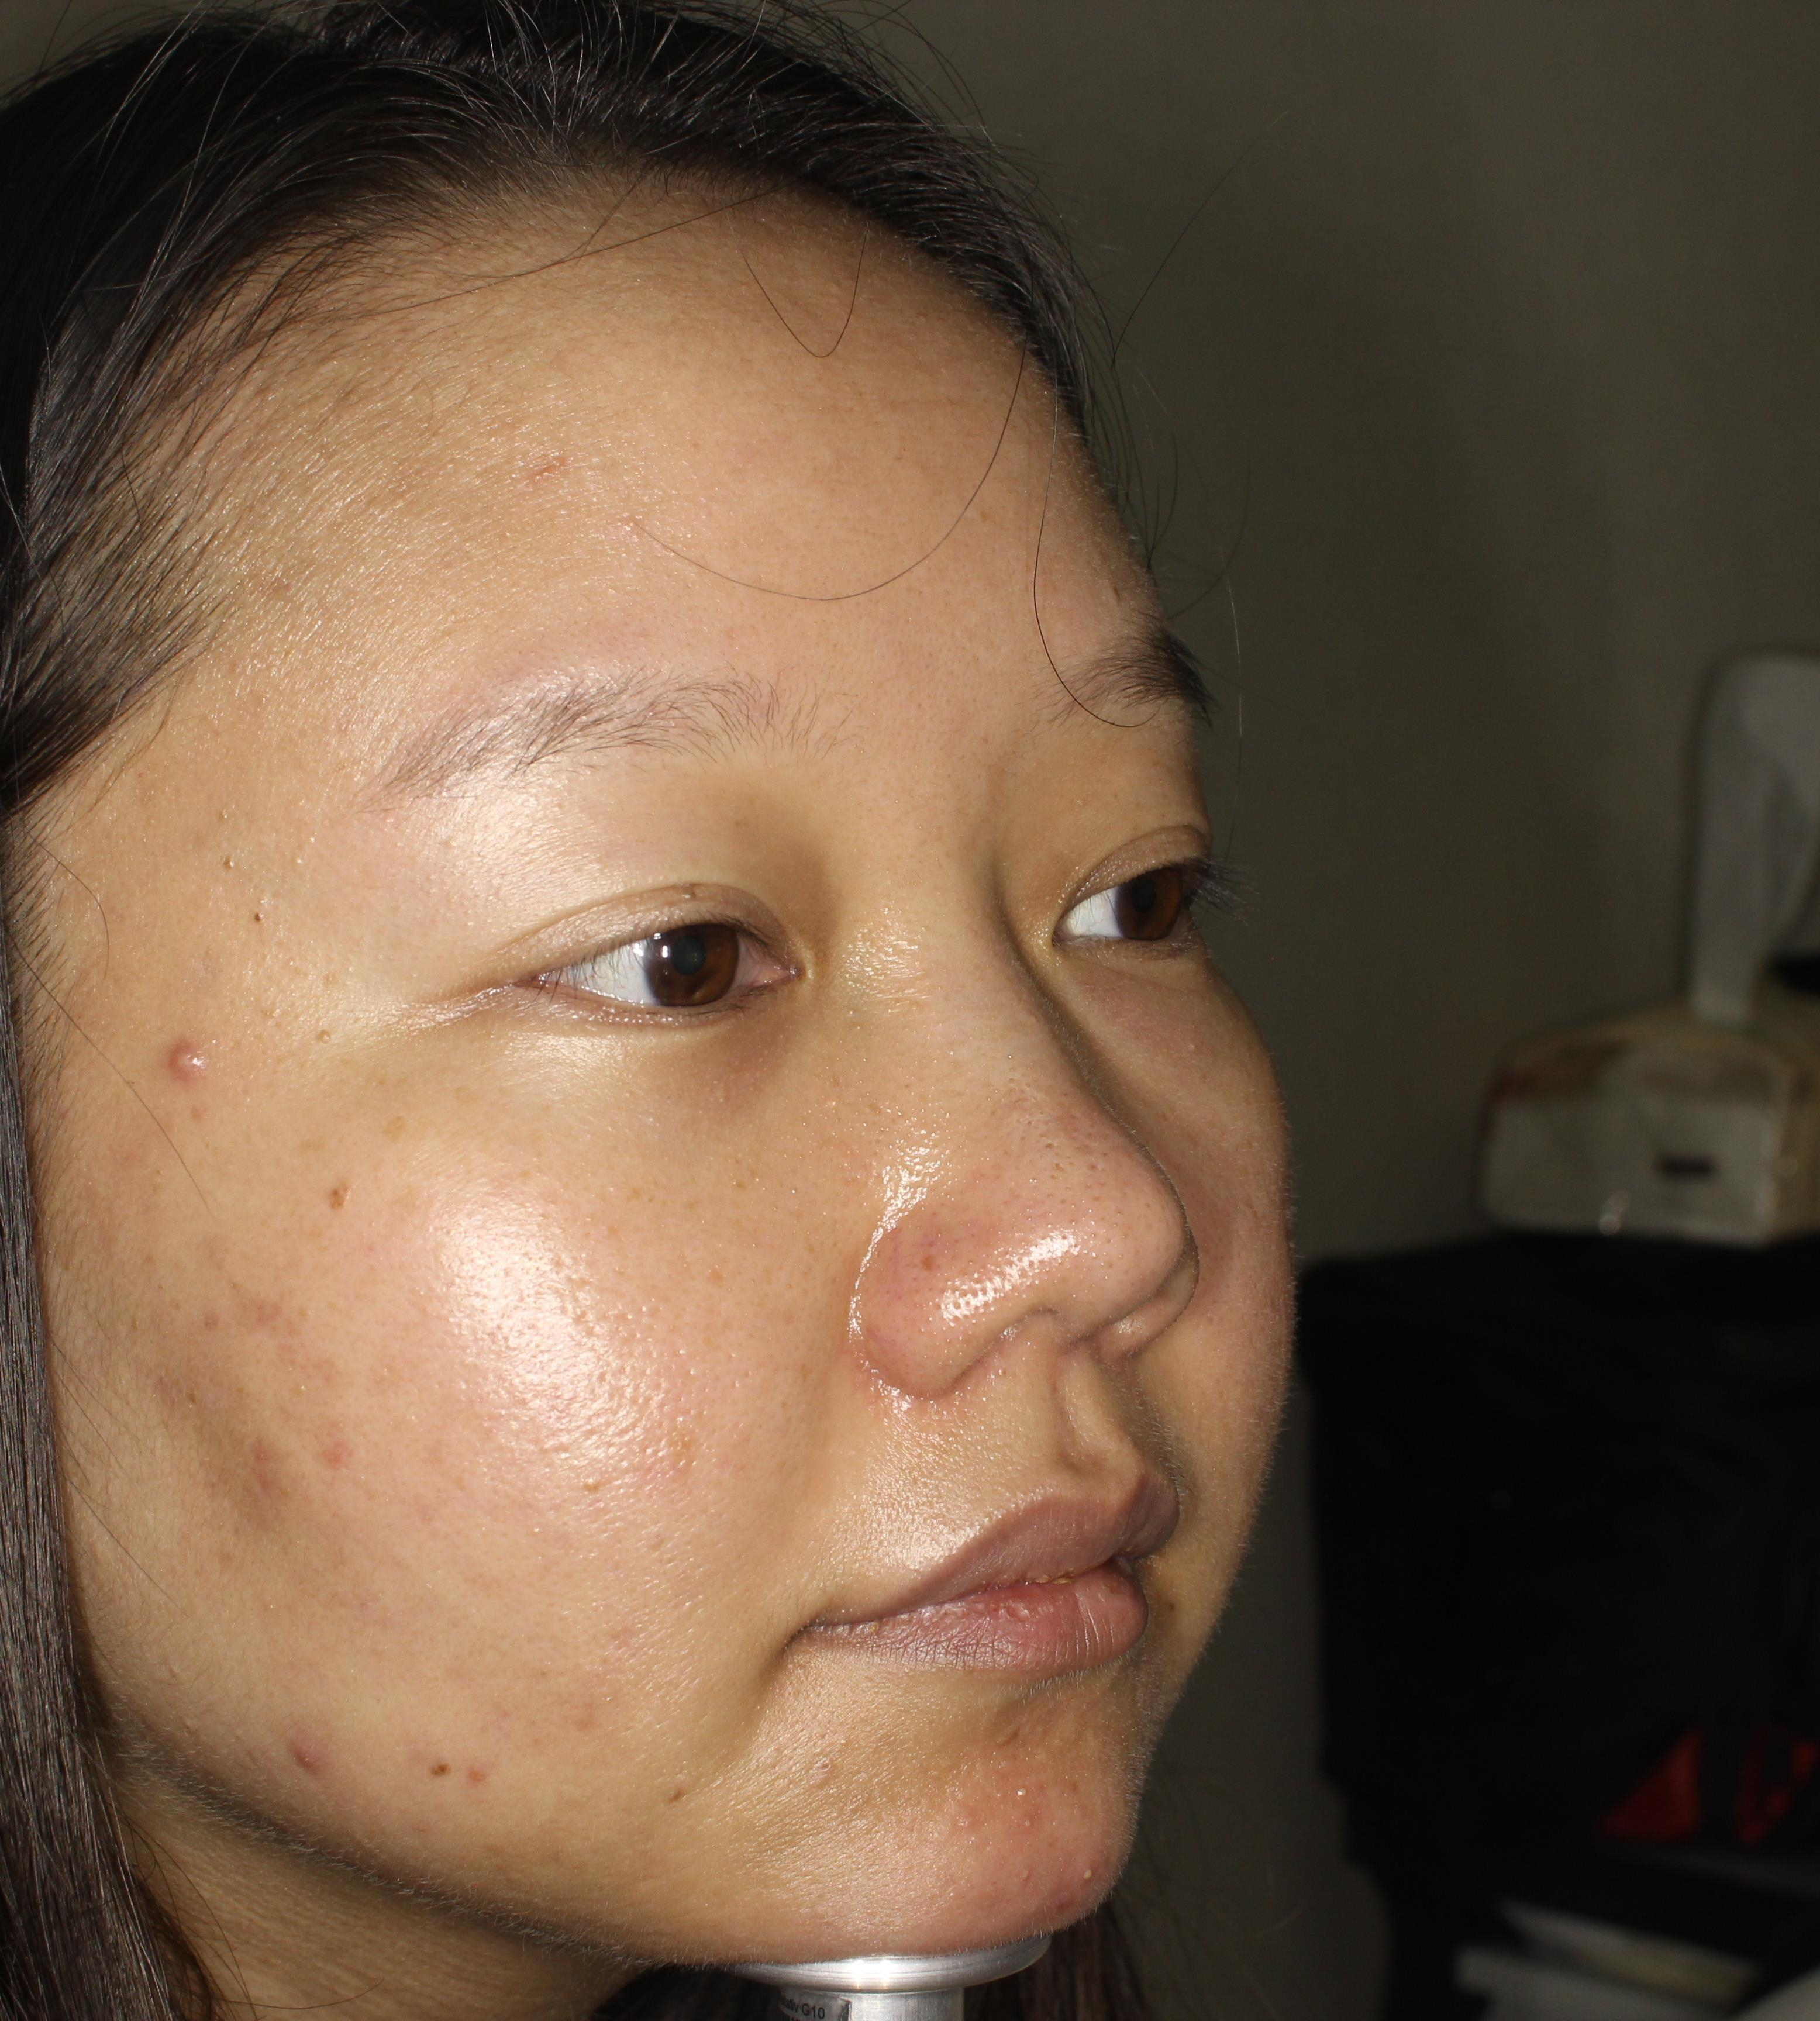fore: (279, 1705, 355, 1845), (216, 1271, 314, 1352), (242, 1410, 311, 1514), (144, 1011, 213, 1096), (450, 1737, 508, 1817), (329, 1396, 372, 1491), (1051, 1845, 1103, 1916), (991, 1759, 1042, 1814)
